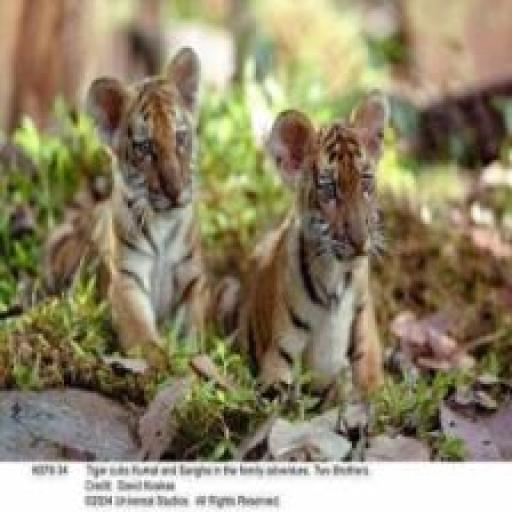Tiger: (46, 46, 392, 440)
